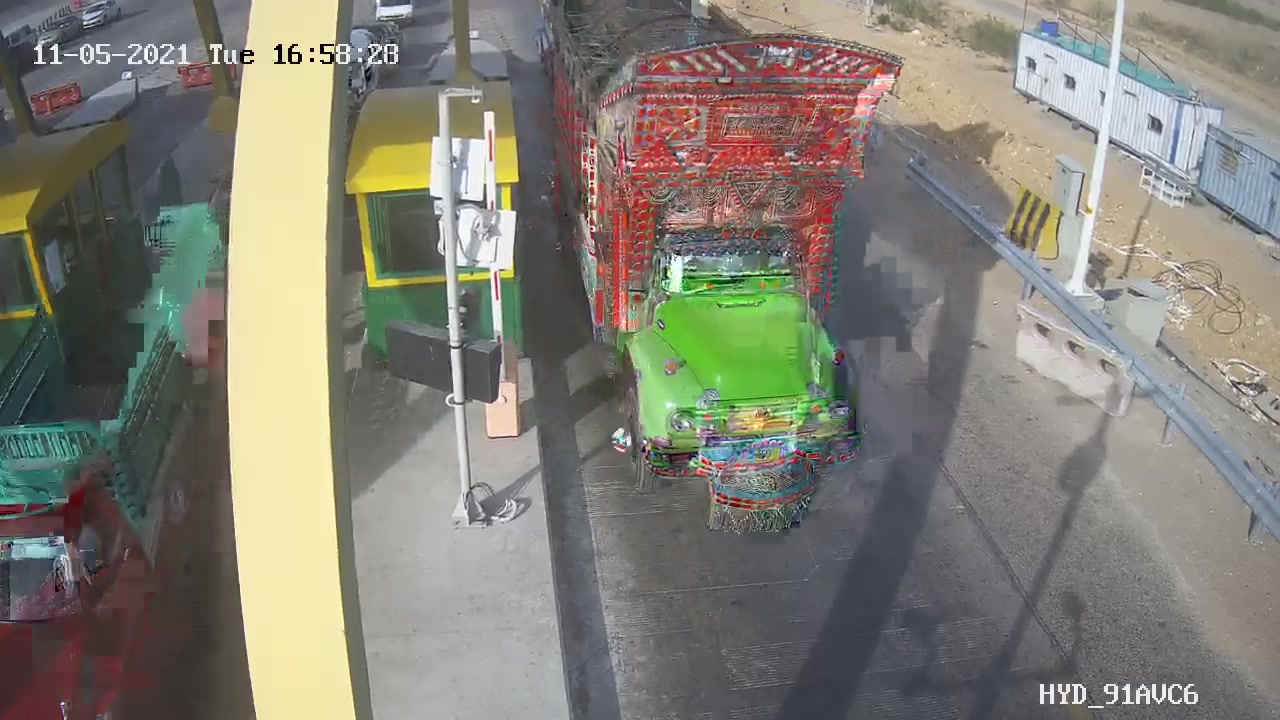F5: (534, 1, 917, 555)
